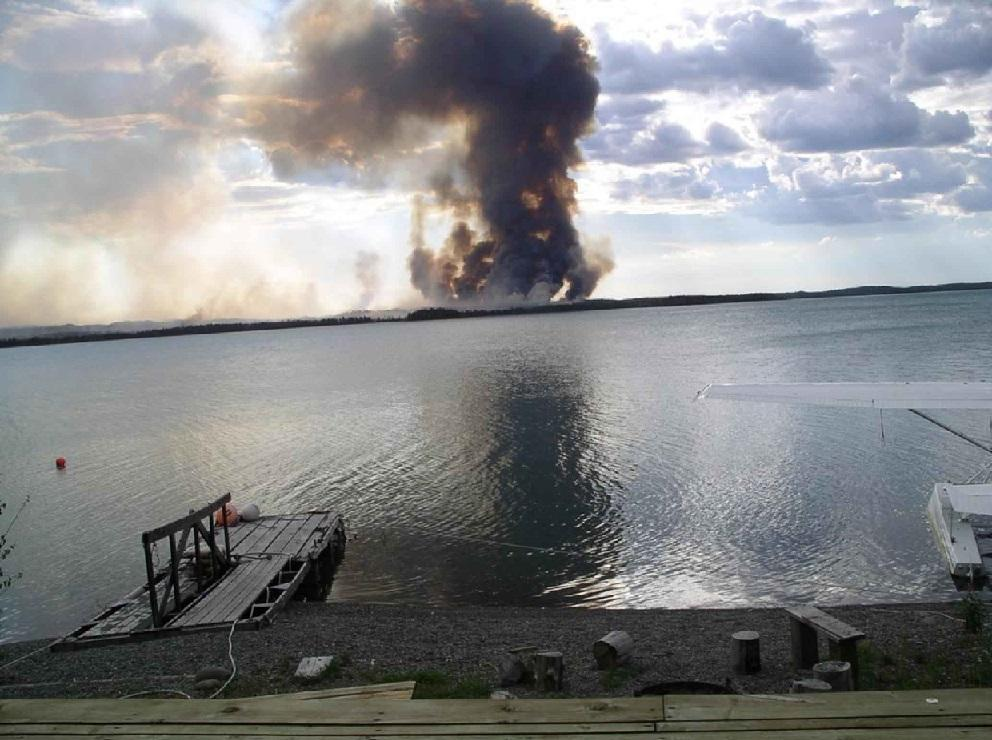fire: (9, 232, 317, 324)
